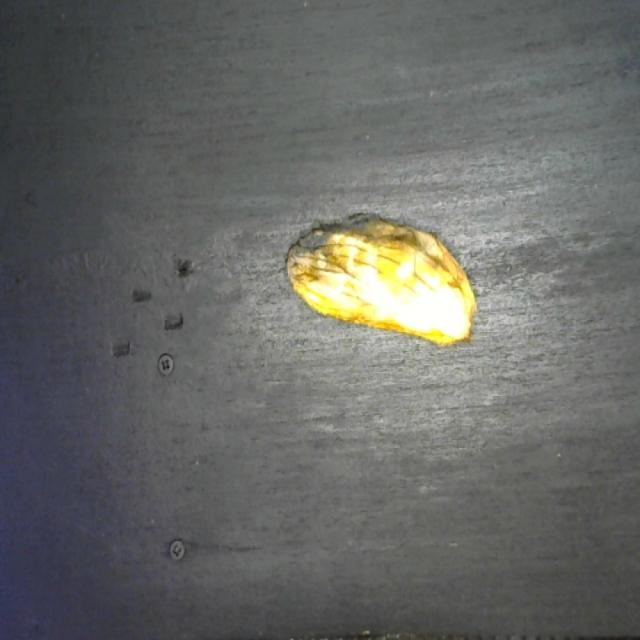biodegradable: (282, 206, 482, 354)
